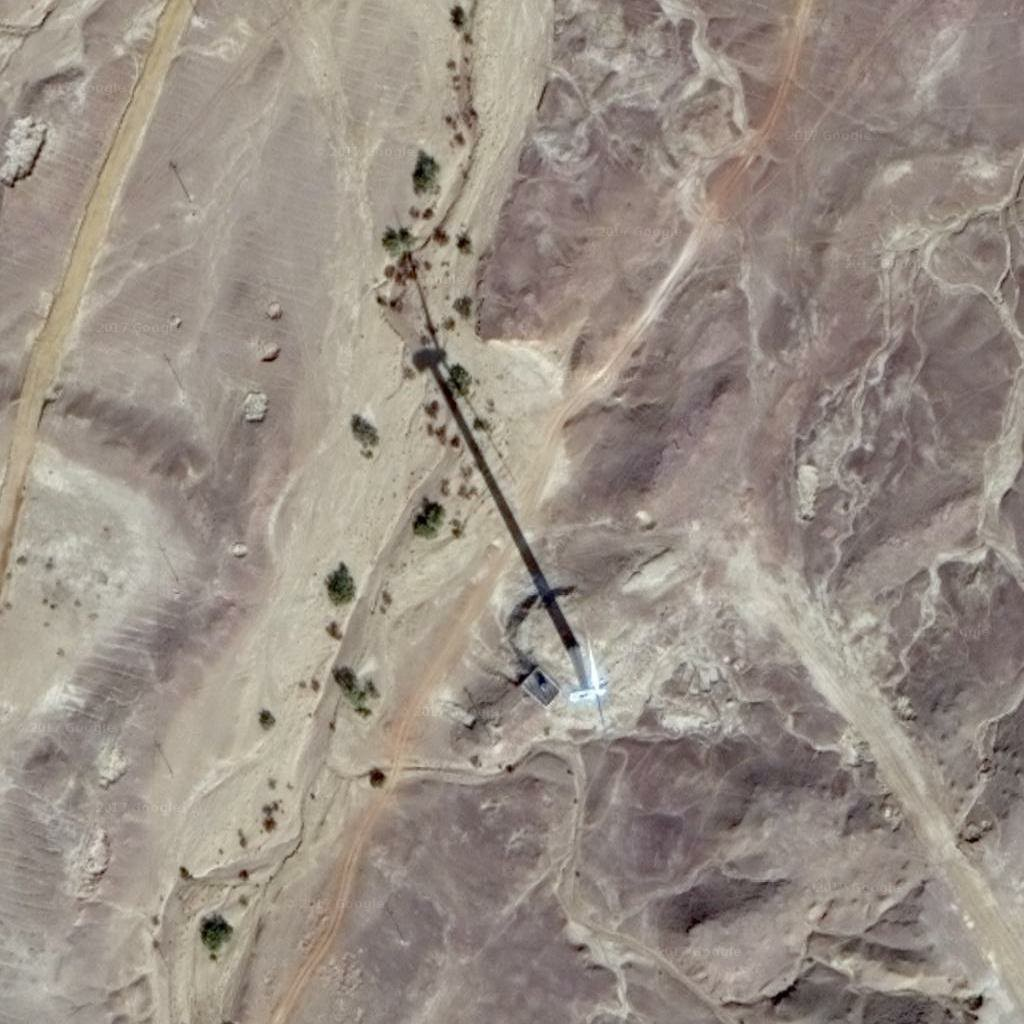Windmill: (373, 209, 615, 648)
